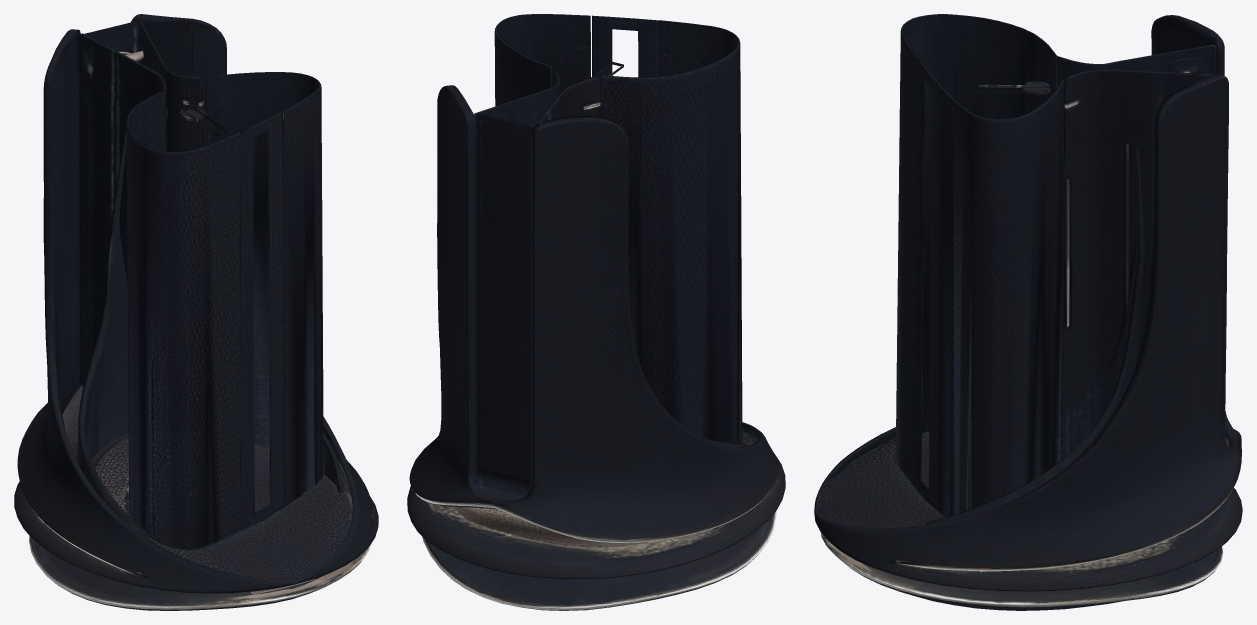
File: town-black-tower.lite.glb
3 renders of one model, left to right at view 1: azimuth 30°, elevation 25°; view 2: azimuth 150°, elevation 25°; view 3: azimuth 270°, elevation 25°, orthographic. The views are drawn at different scales.
Visible parts, largest first — view 1: tripo_node_e5eeb036-b9e3-4df3-a3d1-933bb22fd83d; view 2: tripo_node_e5eeb036-b9e3-4df3-a3d1-933bb22fd83d; view 3: tripo_node_e5eeb036-b9e3-4df3-a3d1-933bb22fd83d.
Part boxes in pixels (x1,y1,x2,y2): tripo_node_e5eeb036-b9e3-4df3-a3d1-933bb22fd83d: (14, 14, 378, 610); tripo_node_e5eeb036-b9e3-4df3-a3d1-933bb22fd83d: (407, 14, 785, 610); tripo_node_e5eeb036-b9e3-4df3-a3d1-933bb22fd83d: (814, 14, 1242, 610).
Bounding box in the file's own units: 0.6577 × 0.98 × 0.7495.
1 material, 1 textured.
